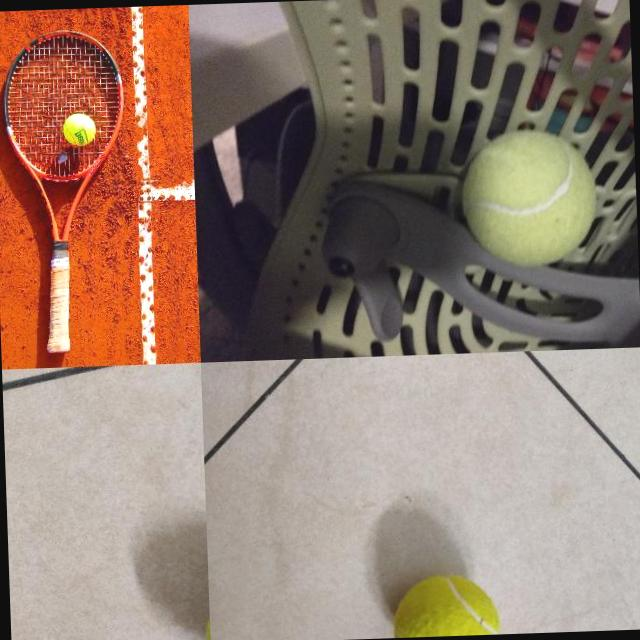Tennis Ball: (458, 126, 600, 271), (391, 572, 501, 637), (62, 113, 96, 147)
